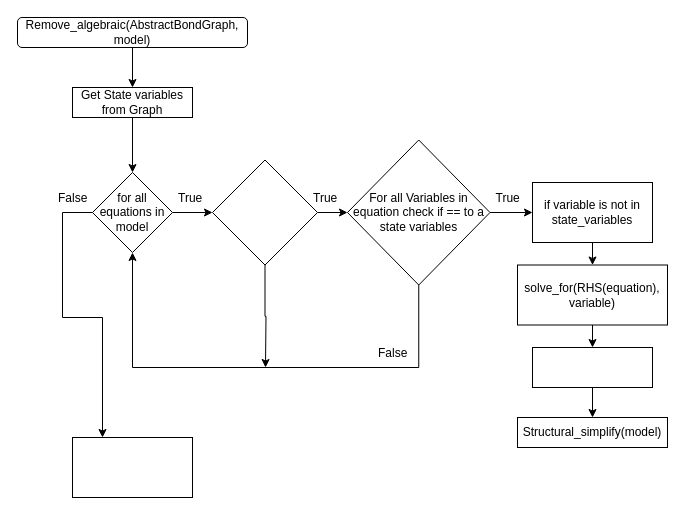
Some shapes in this 685 by 515 pixel diagram are drawn without their labels. The centre of each missing label's shape, as x and y in pixels:
"If LHS of equation == 0" goes at point (265, 212).
"return model" goes at point (132, 467).
"Substitute into remaining equations" goes at point (592, 367).
